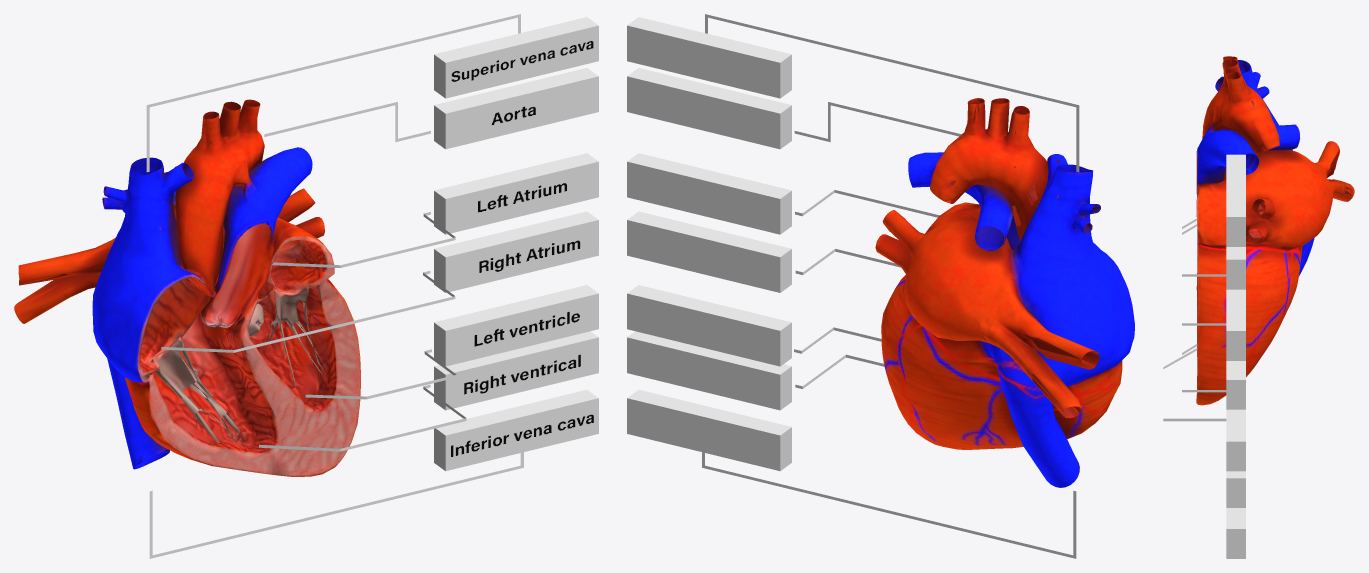
File: heart names.fbx
3 views of the same model, side by side, from view 1: azimuth 30°, elevation 25°; view 2: azimuth 150°, elevation 25°; view 3: azimuth 270°, elevation 25° (orthographic). The views are drawn at different scales.
Parts seen in each view (by area): view 1: polySurface87, pCube9, pCube12, pCube8, pCube11, pCube10, pCube14, pCube13, pPlane14, pPlane9, pPlane11, pPlane13 (+1 smaller); view 2: polySurface87, pCube12, pCube9, pCube11, pCube8, pCube10, pCube14, pCube13, pPlane9, pPlane14, pPlane8; view 3: polySurface87, pCube9, pCube10, pCube12, pCube14, pCube11, pCube8, pCube13, pPlane13.
Part boxes in pixels (x1,y1,x2,y2): polySurface87: [14, 99, 360, 476]; pCube9: [434, 17, 598, 98]; pCube12: [434, 285, 598, 366]; pCube8: [434, 68, 598, 149]; pCube11: [434, 211, 598, 292]; pCube10: [434, 153, 598, 234]; pCube14: [434, 389, 598, 471]; pCube13: [434, 331, 598, 410]; pPlane14: [149, 452, 523, 558]; pPlane9: [146, 14, 520, 172]; pPlane11: [161, 271, 455, 352]; pPlane13: [259, 384, 466, 451]; polySurface87: [875, 98, 1134, 487]; pCube12: [627, 285, 791, 366]; pCube9: [627, 17, 791, 98]; pCube11: [627, 211, 791, 292]; pCube8: [627, 68, 791, 149]; pCube10: [627, 153, 791, 234]; pCube14: [627, 389, 791, 471]; pCube13: [627, 331, 791, 410]; pPlane9: [705, 14, 1079, 172]; pPlane14: [702, 452, 1076, 558]; pPlane8: [794, 102, 961, 142]; polySurface87: [1196, 56, 1354, 405]; pCube9: [1226, 154, 1245, 246]; pCube10: [1226, 289, 1245, 360]; pCube12: [1226, 409, 1245, 471]; pCube14: [1226, 508, 1245, 558]; pCube11: [1226, 361, 1245, 409]; pCube8: [1226, 247, 1245, 289]; pCube13: [1226, 471, 1245, 507]; pPlane13: [1163, 348, 1226, 421].
Bounding box in the file's own units: 24.39 × 20.36 × 9.27.
2 materials, 2 textured.
